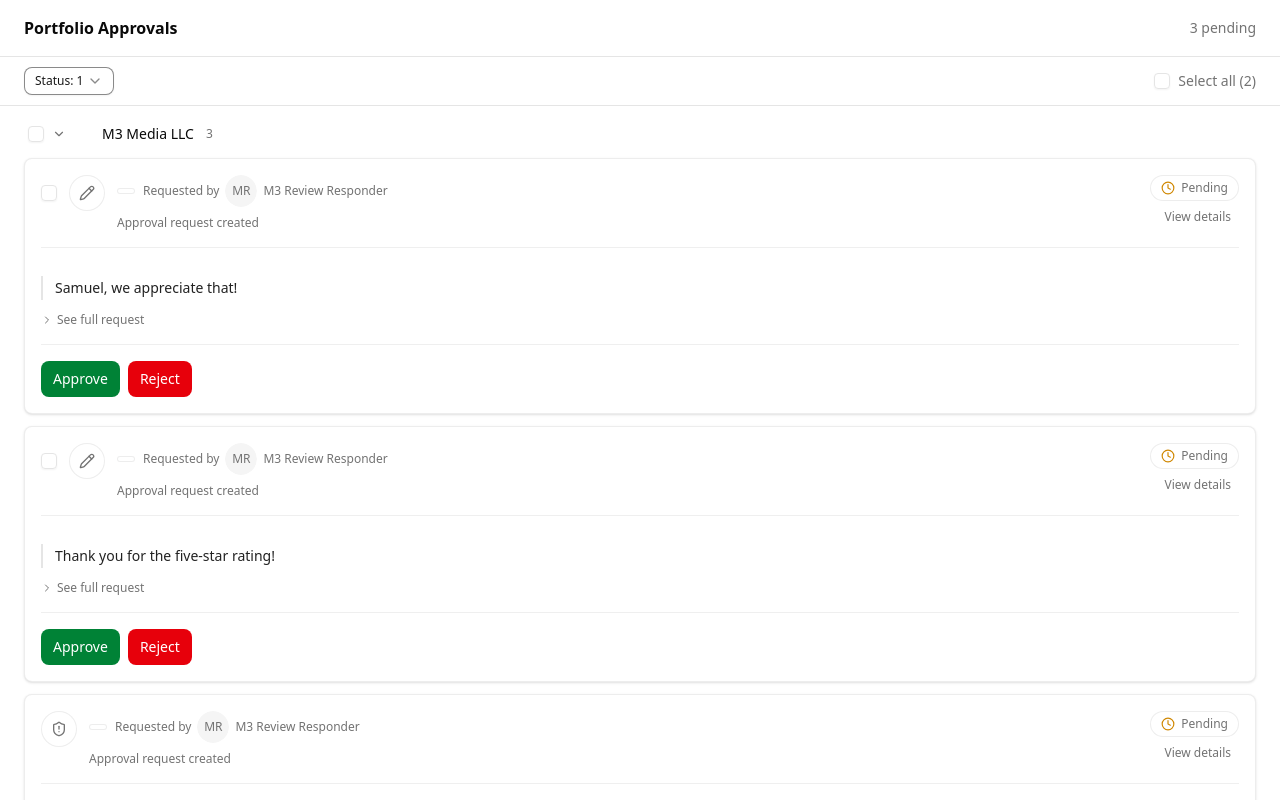
Test: PortfolioApprovals › rejects only the ticked request and reports one that failed, keeping it ticked
Click the 2nd checkbox named "Select": (49, 461) [41,453,57,469]
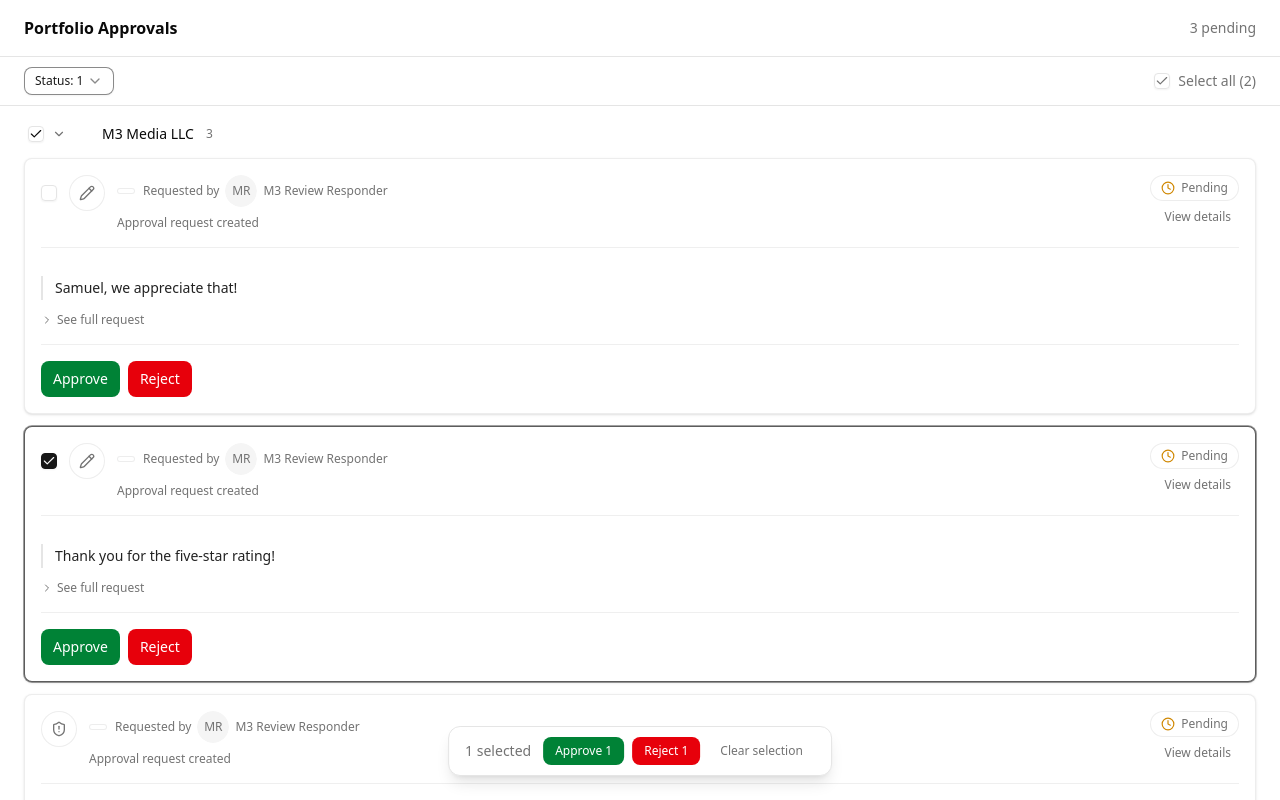
Now the text "1 selected" is shown, box [465,741,531,761]
Click the button "Reject 1": (666, 751) [632,737,700,765]
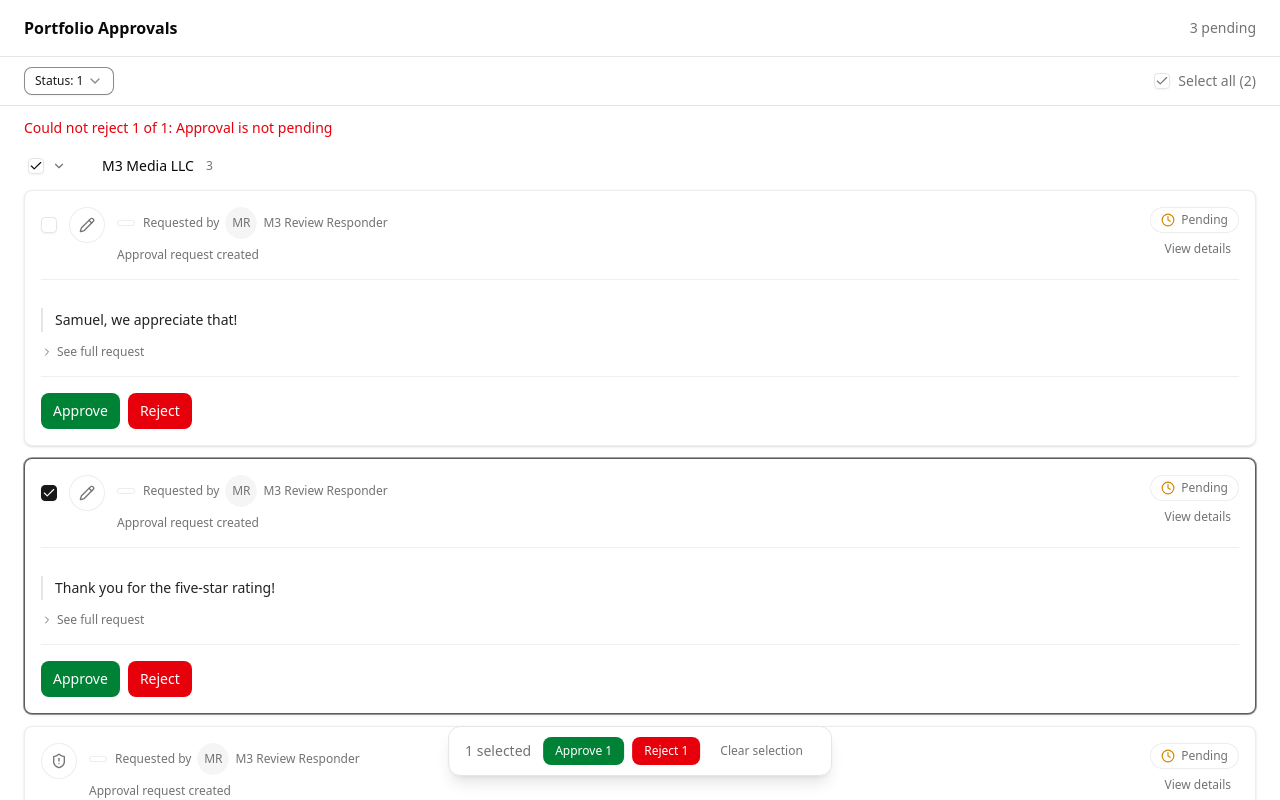
Now the text "1 selected" is shown, box [465,741,531,761]
Now the text "Could not reject 1 of 1: Approval is not pending" is shown, box [24,118,332,137]
